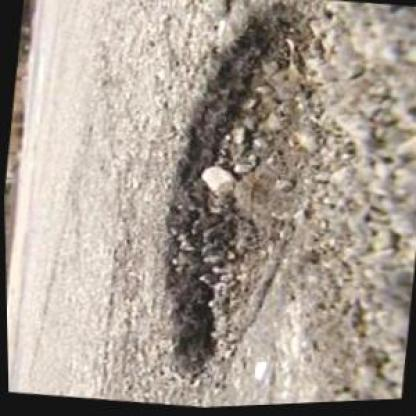pothole: (141, 0, 372, 397)
